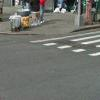Crosswalk: (39, 28, 100, 68)
